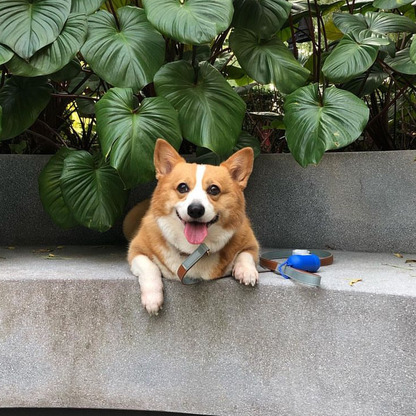Corgi: (124, 132, 276, 318)
